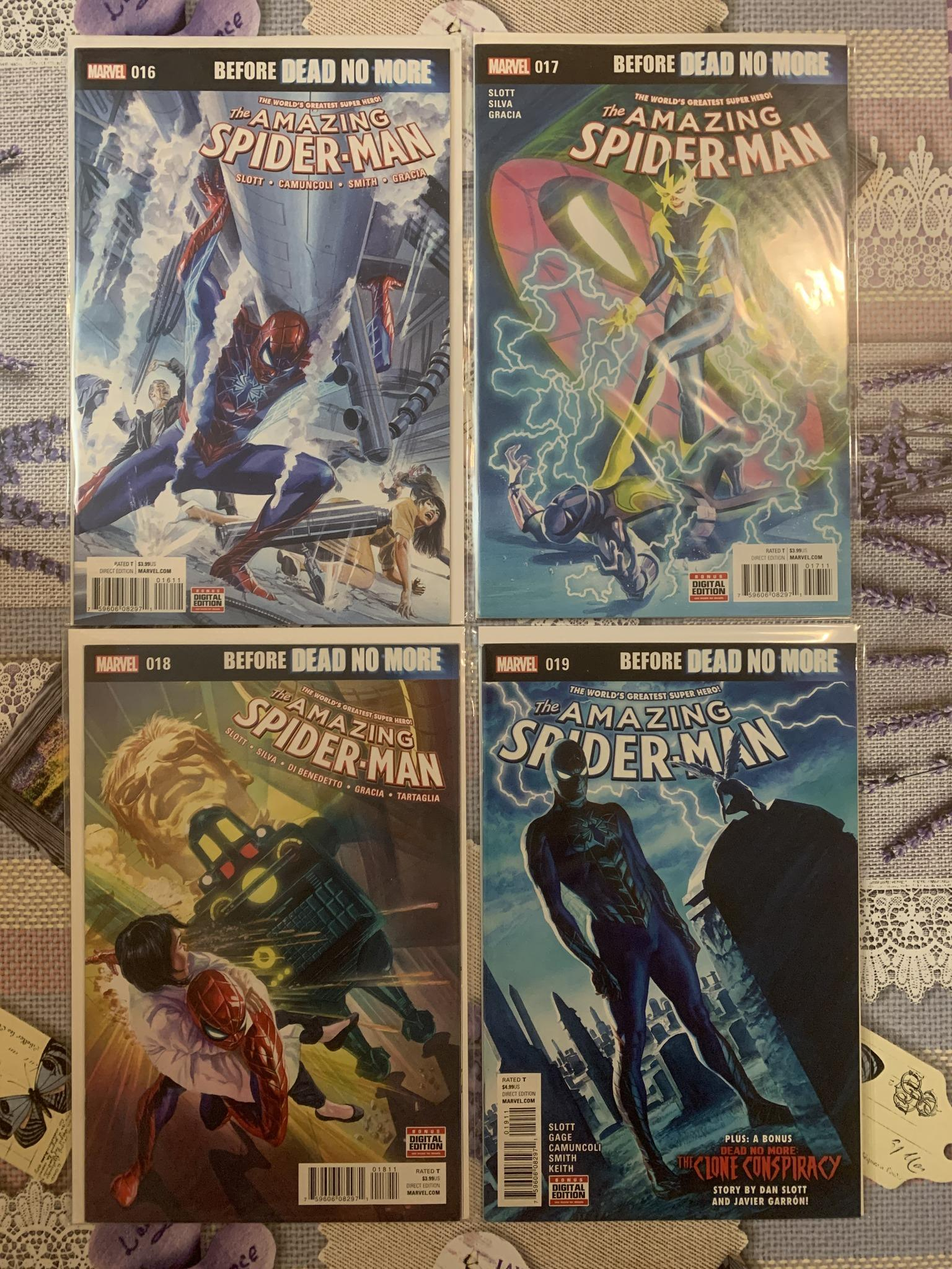comic: (71, 628, 465, 1222), (70, 37, 462, 627), (480, 625, 860, 1221), (473, 33, 850, 620)
